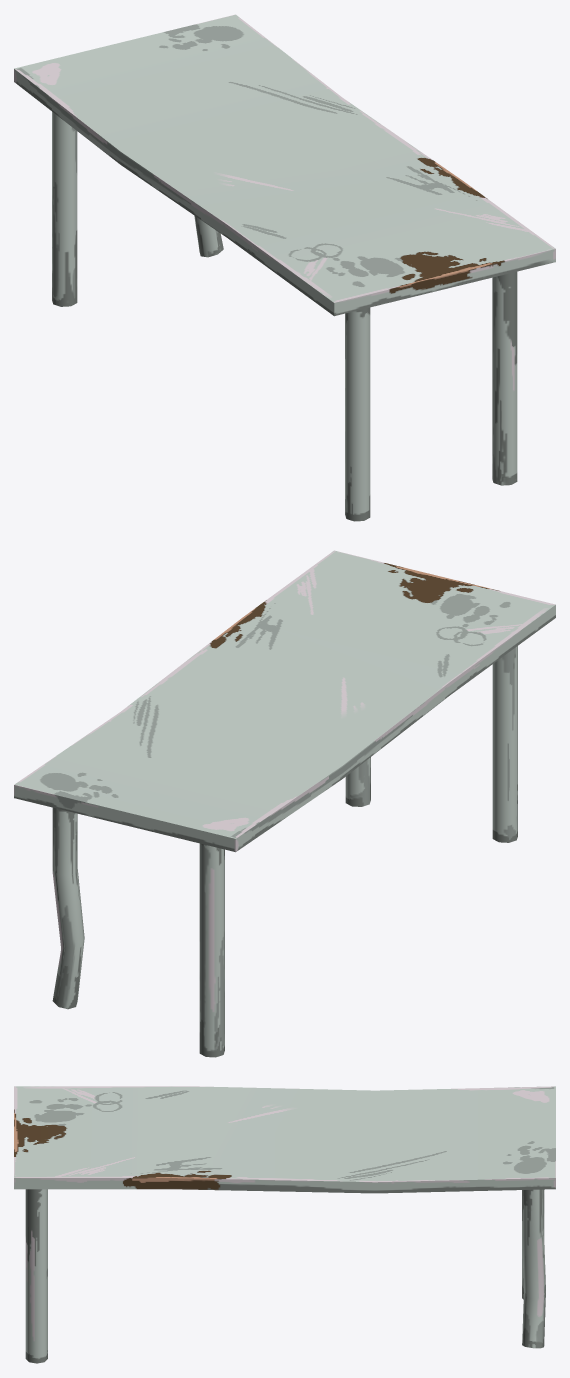
Rendered from Desk_1.glb.
3 renders of one model, top to bottom at view 1: azimuth 30°, elevation 25°; view 2: azimuth 150°, elevation 25°; view 3: azimuth 270°, elevation 25°, orthographic. The views are drawn at different scales.
Visible parts, largest first — view 1: Desk_1; view 2: Desk_1; view 3: Desk_1.
Boxes of the visible parts, left/top/right/bottom form: Desk_1: left=14, top=14, right=555, bottom=521; Desk_1: left=14, top=550, right=555, bottom=1057; Desk_1: left=14, top=1086, right=555, bottom=1363.
Bounding box in the file's own units: 0.8 × 0.8 × 2.
Materials: 1 (1 with a texture image).
